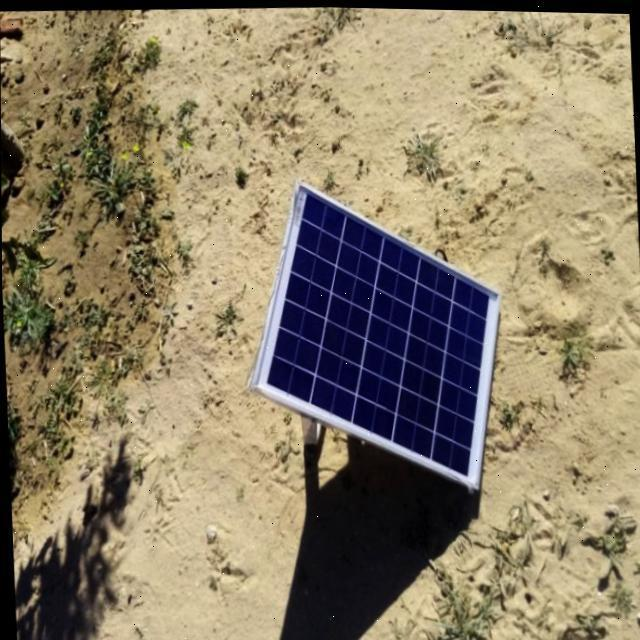Normal Solar Panel: (244, 171, 506, 494)
